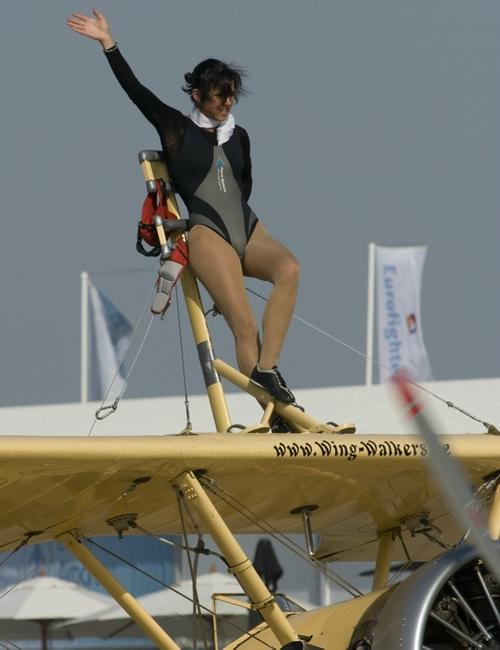person: (67, 9, 301, 430)
